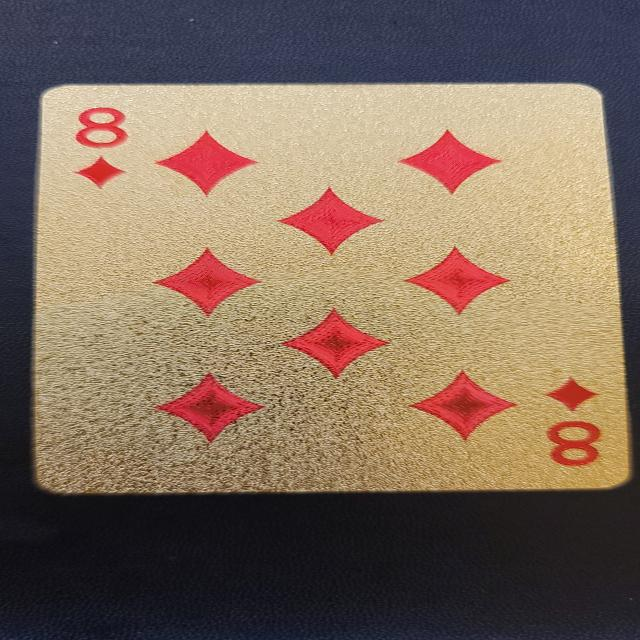8 of diamonds: (31, 83, 634, 495)
